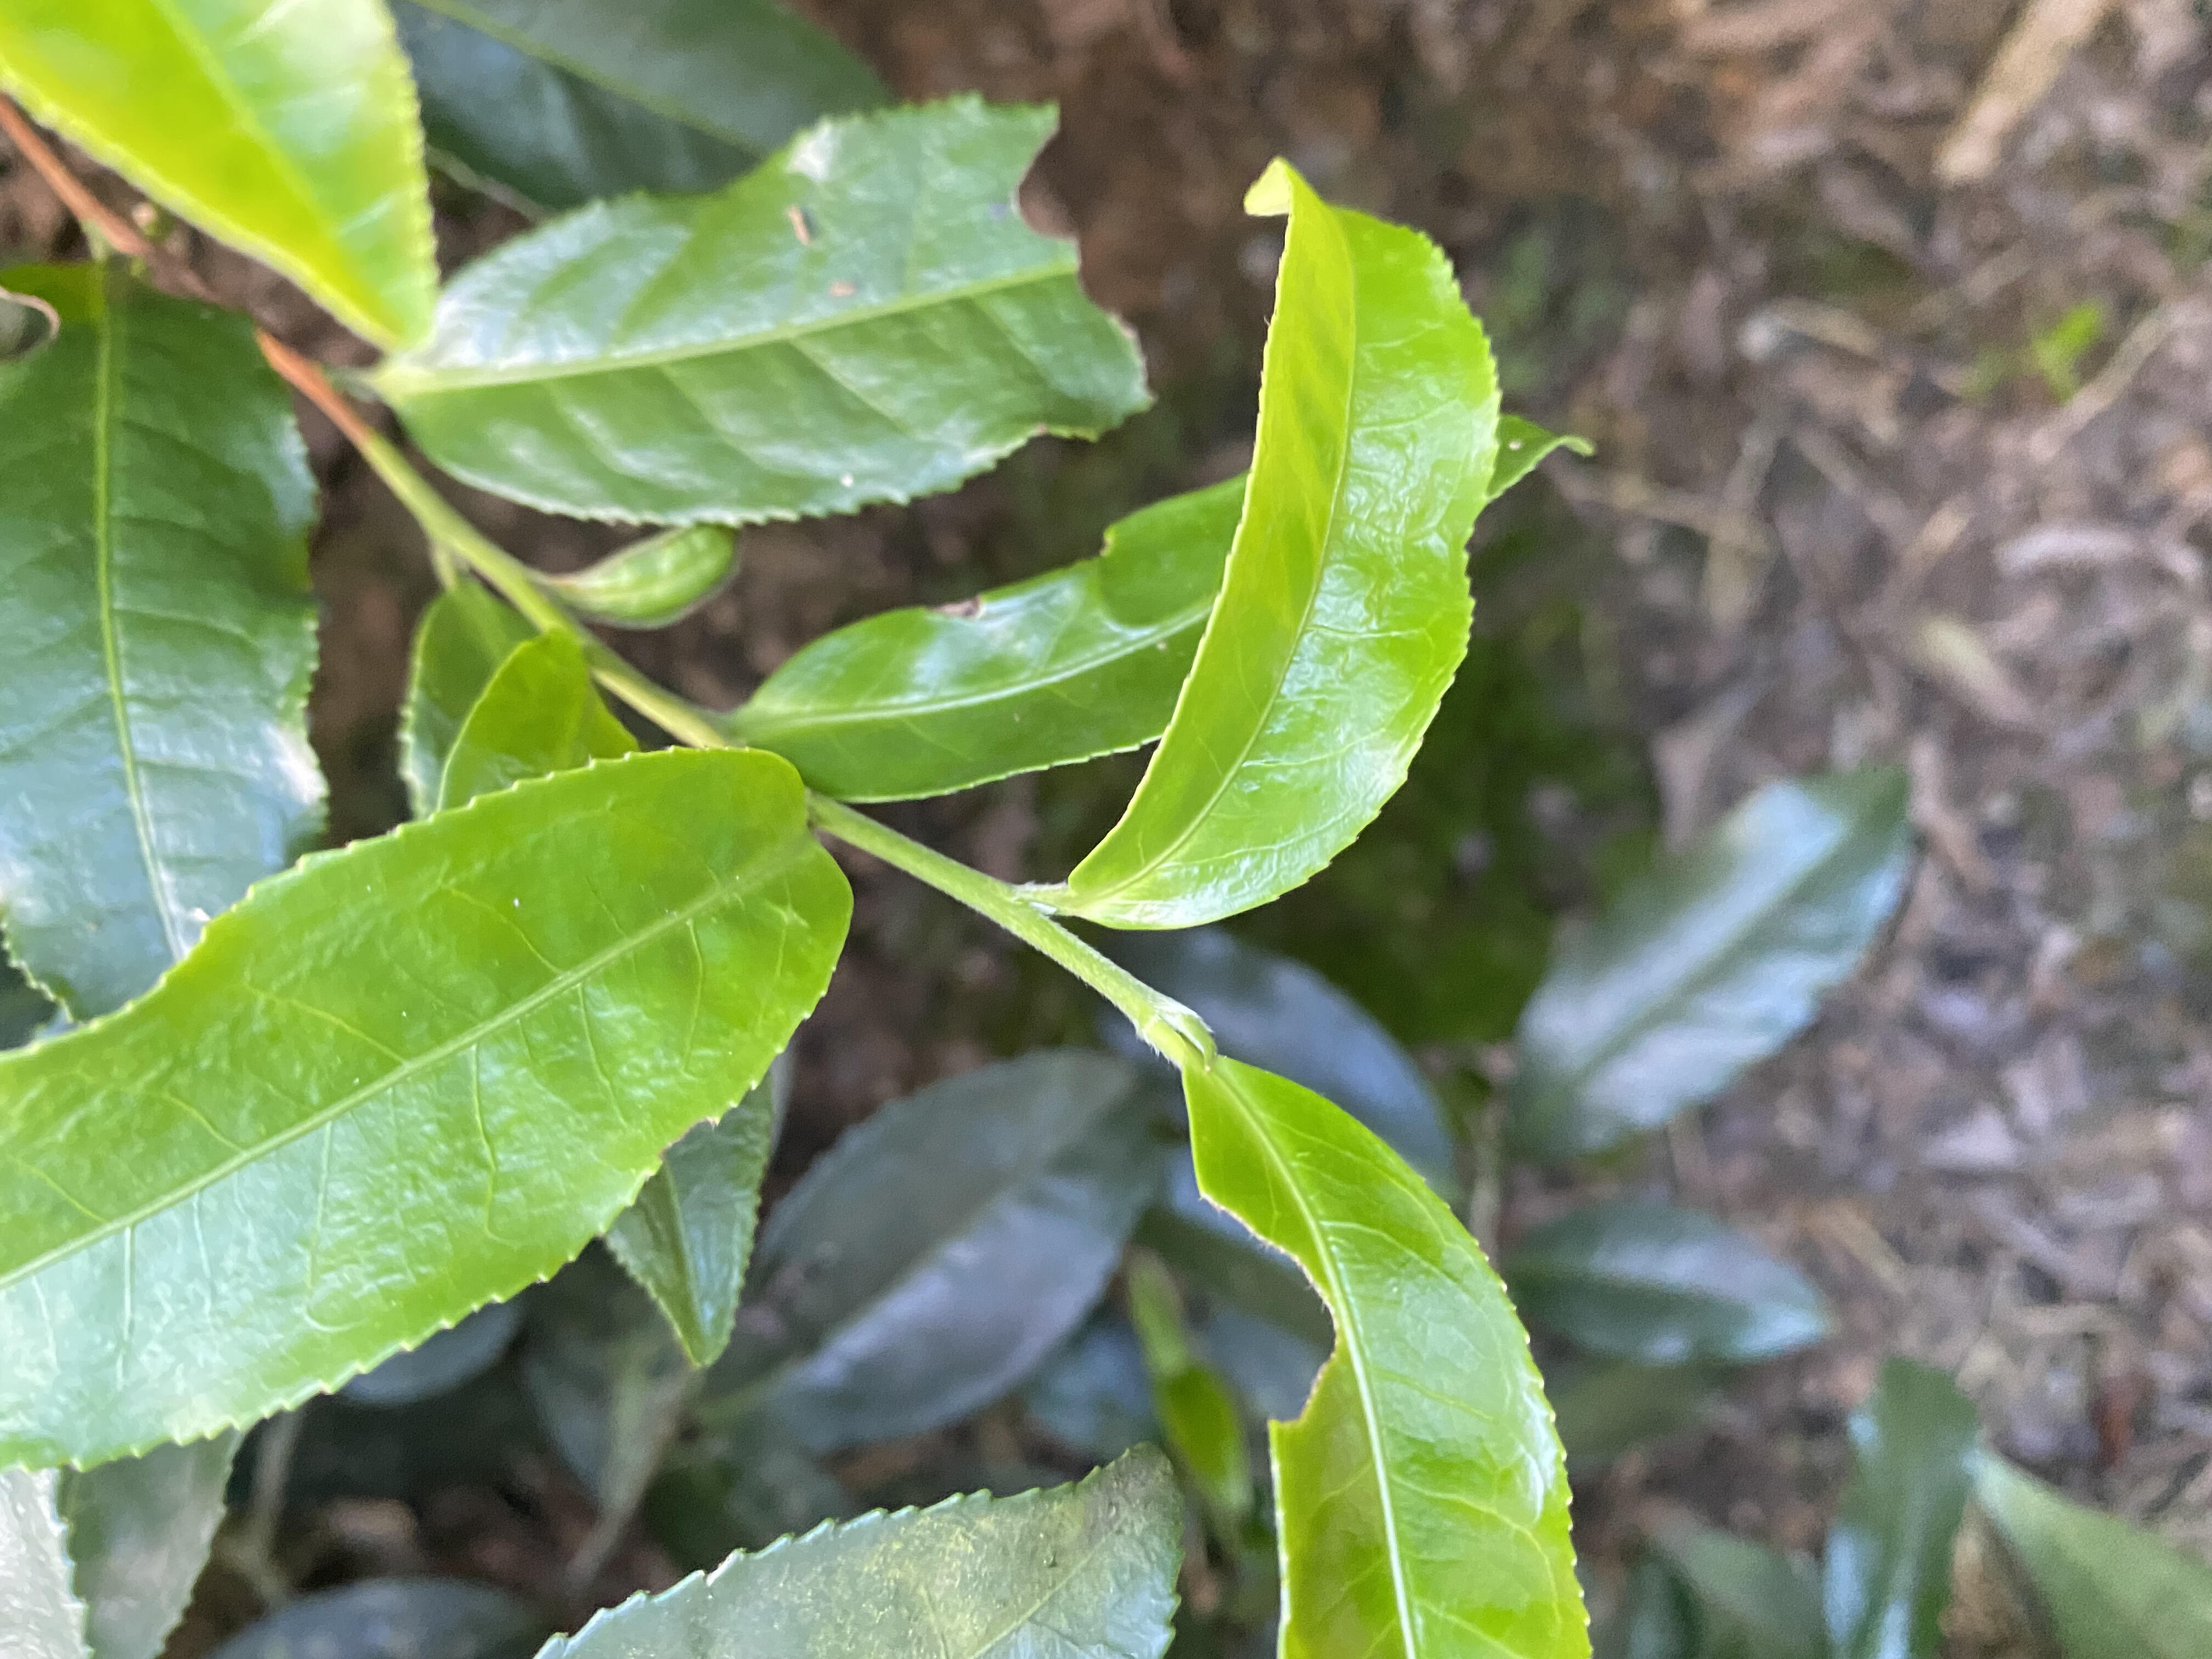chihuo_high: (388, 91, 1158, 535)
chihuo_low: (0, 258, 336, 1026), (1179, 1056, 1594, 1659)
healthy: (3, 749, 855, 1471), (1069, 152, 1507, 931)
tanju_low: (742, 413, 1601, 807)
